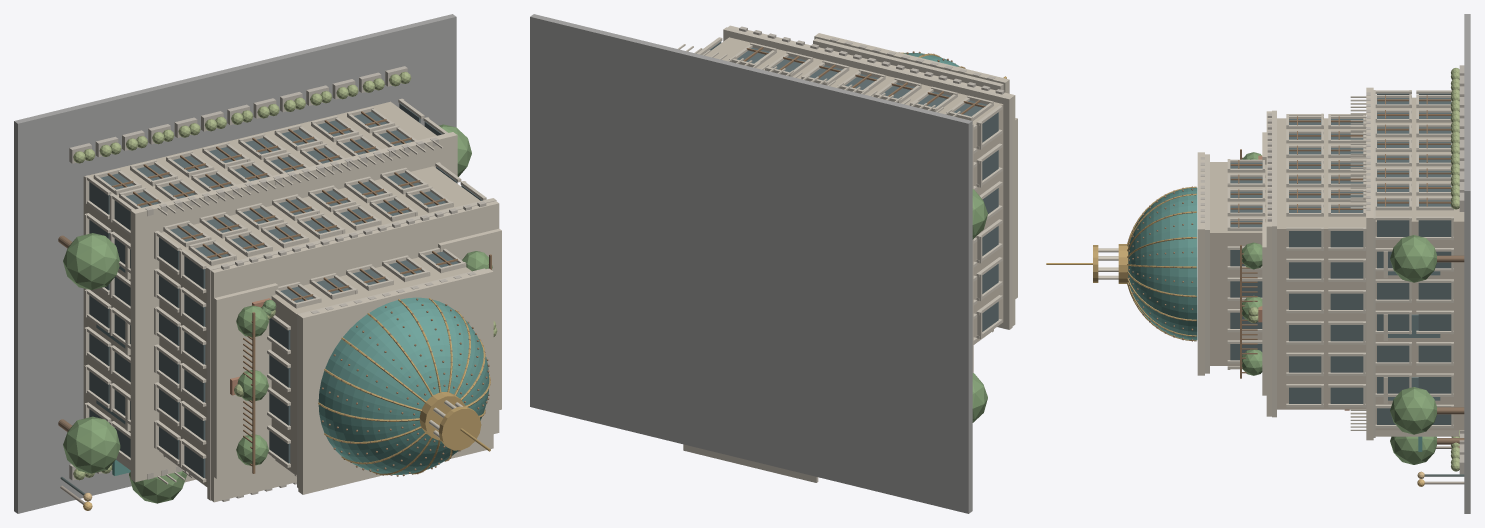
File: domed-station.glb
3 renders of one model, left to right at view 1: azimuth 30°, elevation 25°; view 2: azimuth 150°, elevation 25°; view 3: azimuth 270°, elevation 25°, orthographic. The views are drawn at different scales.
Visible parts, largest first — view 1: Square stone plinth, Segmented copper dome, Ground cornice, Drum cornice, Upper cornice, Roof terrace -5.1, Second floor, Ground floor, Central drum, Roof terrace 5.1, Tree crown 0, Tree crown 1 (+10 smaller); view 2: Square stone plinth, V2_00671_Detailed entablature, Second floor, V2_00812_Detailed entablature, Upper cornice, Drum cornice, V2_01395_Carved entry step, Tree crown 1, Tree crown 0; view 3: Second floor, Ground floor, Segmented copper dome, Central drum, Square stone plinth, Ground cornice, Tree crown 3, Tree crown 2, Drum cornice, V2_00671_Detailed entablature, Upper cornice, V2_00812_Detailed entablature (+28 smaller).
Part boxes in pixels (left/top/right/bottom): Square stone plinth: left=14, top=14, right=456, bottom=513; Segmented copper dome: left=318, top=297, right=489, bottom=474; Ground cornice: left=130, top=132, right=457, bottom=482; Drum cornice: left=298, top=268, right=493, bottom=494; Upper cornice: left=211, top=201, right=499, bottom=502; Roof terrace -5.1: left=213, top=283, right=278, bottom=478; Second floor: left=159, top=166, right=480, bottom=485; Ground floor: left=83, top=101, right=436, bottom=462; Central drum: left=271, top=257, right=471, bottom=474; Roof terrace 5.1: left=438, top=228, right=501, bottom=411; Tree crown 0: left=63, top=416, right=120, bottom=473; Tree crown 1: left=63, top=233, right=119, bottom=289; Square stone plinth: left=530, top=14, right=972, bottom=513; V2_00671_Detailed entablature: left=723, top=27, right=1012, bottom=329; Second floor: left=705, top=37, right=1003, bottom=343; V2_00812_Detailed entablature: left=813, top=38, right=1003, bottom=90; Upper cornice: left=728, top=25, right=1015, bottom=325; Drum cornice: left=814, top=33, right=1009, bottom=93; V2_01395_Carved entry step: left=683, top=444, right=818, bottom=482; Tree crown 1: left=972, top=189, right=987, bottom=239; Tree crown 0: left=972, top=373, right=987, bottom=422; Second floor: left=1277, top=118, right=1366, bottom=409; Ground floor: left=1375, top=97, right=1464, bottom=430; Segmented copper dome: left=1128, top=187, right=1197, bottom=340; Central drum: left=1210, top=162, right=1266, bottom=365; Square stone plinth: left=1464, top=14, right=1470, bottom=513; Ground cornice: left=1366, top=87, right=1373, bottom=440; Tree crown 3: left=1390, top=387, right=1436, bottom=434; Tree crown 2: left=1390, top=235, right=1436, bottom=282; Drum cornice: left=1197, top=152, right=1204, bottom=375; V2_00671_Detailed entablature: left=1272, top=110, right=1276, bottom=417; Upper cornice: left=1266, top=111, right=1271, bottom=416; V2_00812_Detailed entablature: left=1205, top=154, right=1209, bottom=373.
Size of the model in its own units: 20 by 17.3 by 20.25.
